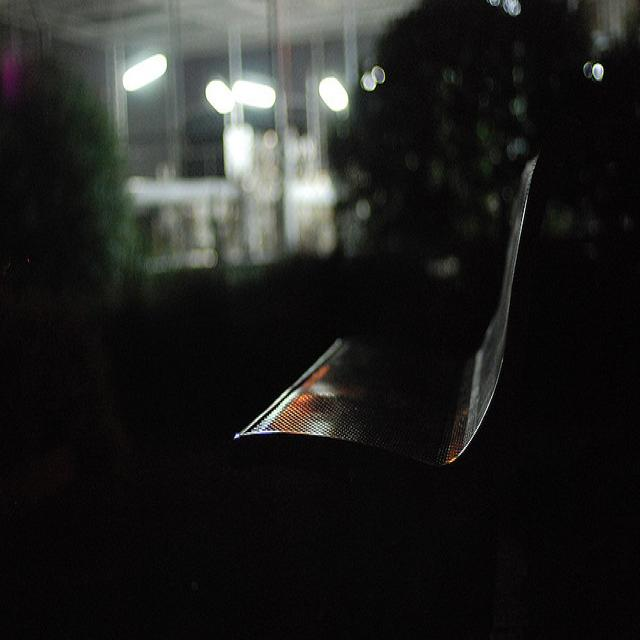chair: (231, 97, 550, 621)
